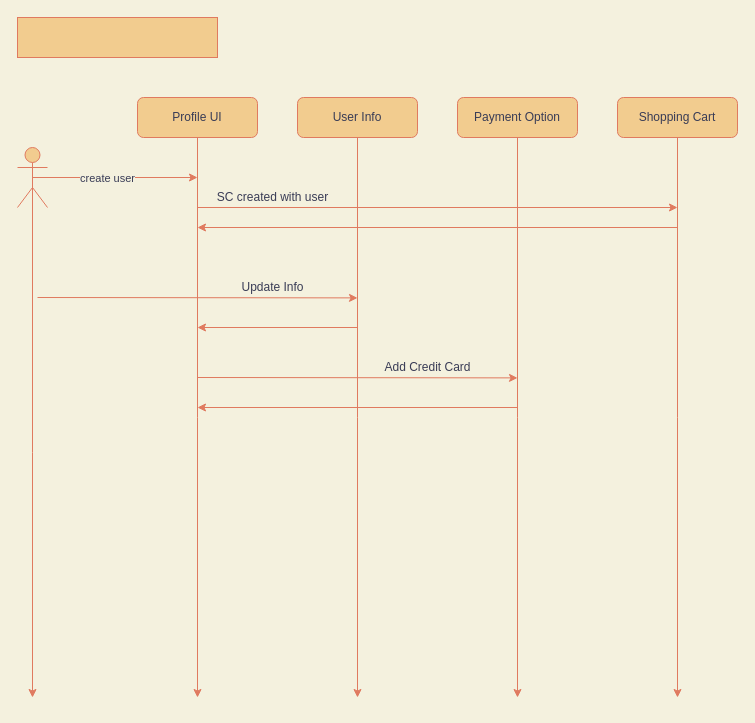
Some shapes in this 755 by 723 pixel diagram are drawn without their labels. Here are the shapes that lost their labels. From the top down, the box of each, then its label:
(16, 16, 218, 58): Sequence
(16, 146, 48, 208): Actor
